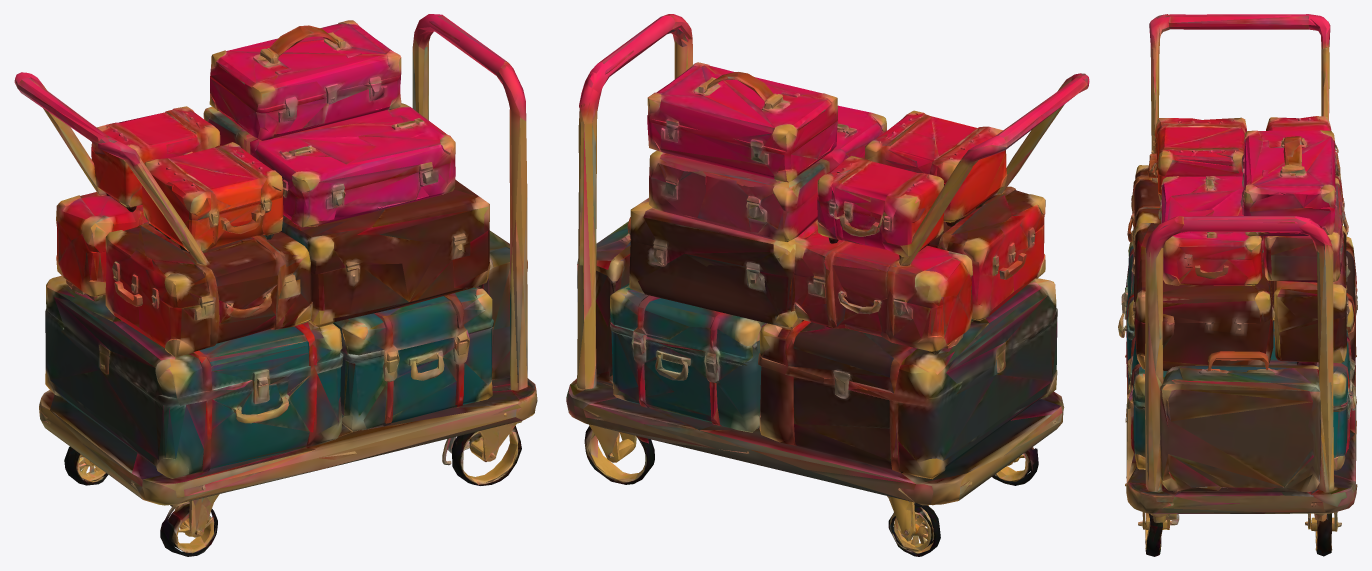
File: mx_hh_luggage_cart.glb
3 renders of one model, left to right at view 1: azimuth 30°, elevation 25°; view 2: azimuth 150°, elevation 25°; view 3: azimuth 270°, elevation 25°, orthographic. The views are drawn at different scales.
Size of the model in its own units: 1.9 by 1.83 by 1.05.
Materials: 1 (1 with a texture image).
